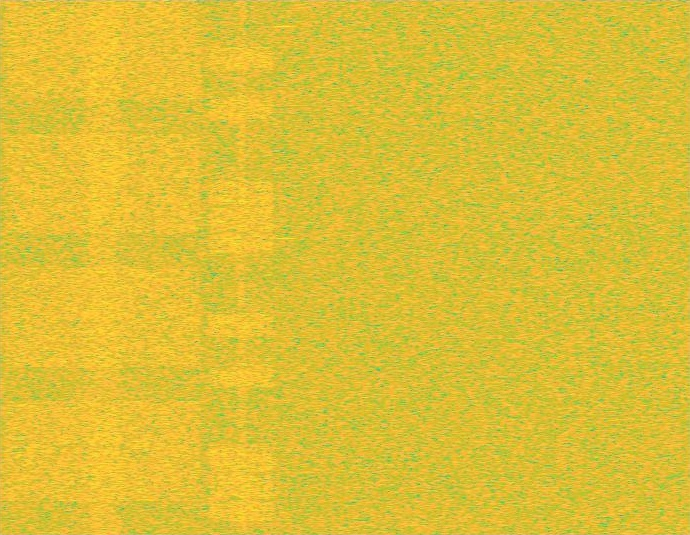5G: (0, 0, 207, 534)
DSSS: (80, 0, 127, 534), (237, 0, 246, 534)
LTE: (207, 0, 276, 534)
Radar: (279, 0, 293, 534)
